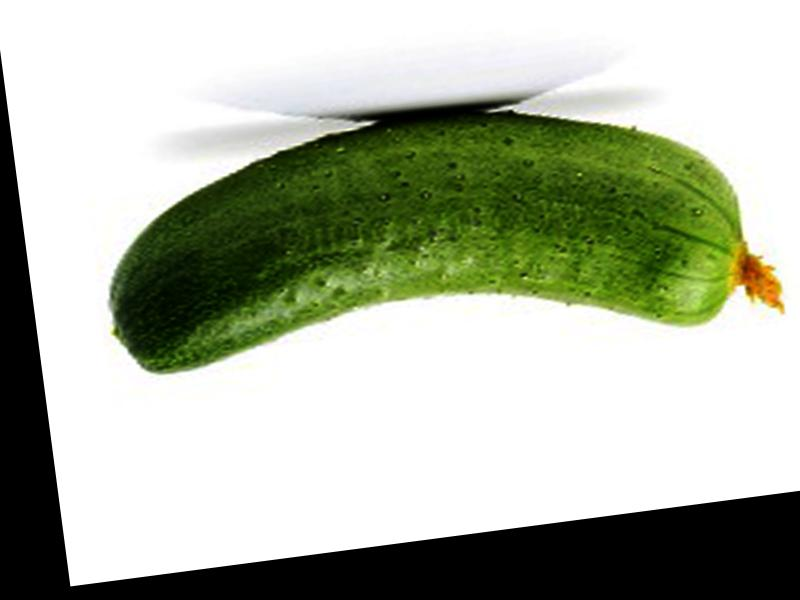Cucumber: (88, 69, 791, 403)
